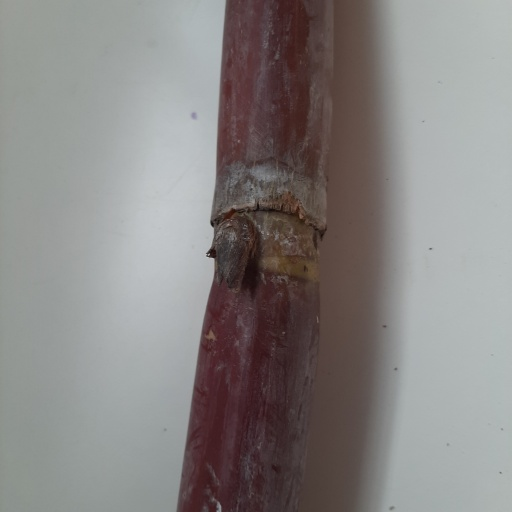Bud: (212, 216, 256, 290)
